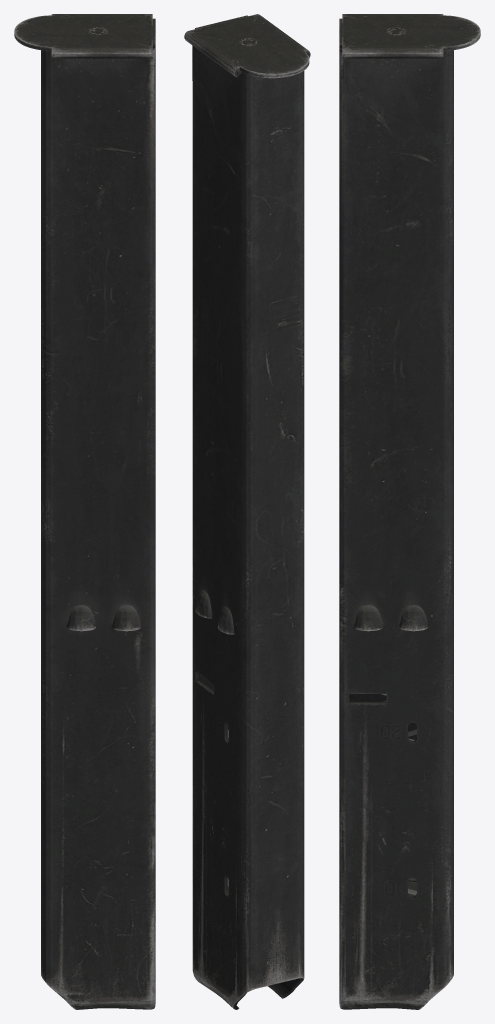
The picture shows the model from 3 angles, left to right: view 1: azimuth 90°, elevation 25°; view 2: azimuth 210°, elevation 25°; view 3: azimuth 270°, elevation 25°; orthographic projection.
Visible parts, largest first — view 1: TW_6699272a3c4fda6471005cc1_PZ_Import; view 2: TW_6699272a3c4fda6471005cc1_PZ_Import; view 3: TW_6699272a3c4fda6471005cc1_PZ_Import.
Boxes of the visible parts, x1=… form: TW_6699272a3c4fda6471005cc1_PZ_Import: x1=14, y1=14, x2=155, y2=1009; TW_6699272a3c4fda6471005cc1_PZ_Import: x1=184, y1=14, x2=310, y2=1009; TW_6699272a3c4fda6471005cc1_PZ_Import: x1=339, y1=14, x2=480, y2=1009.
Size of the model in its own units: 0.015 by 0.0237 by 0.1788.
1 material, 1 textured.
